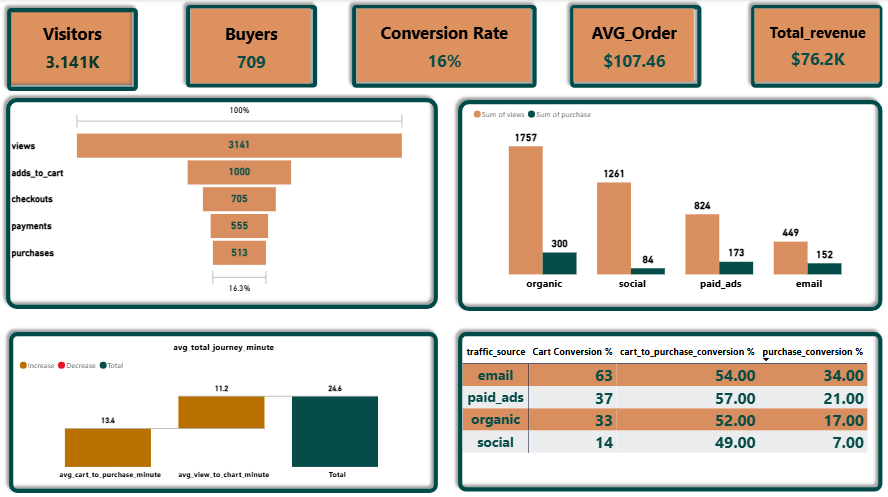

The dashboard page shown, as its layout file describes it:
{"tool":"powerbi","page":{"name":"Page 1","canvas":[1280,720],"ordinal":0},"visuals":[{"type":"funnel","fields":{"Y":["Sum(Query1.views)","Sum(Query1.cart)","Sum(Query1.checkout)","Sum(Query1.payment)","Sum(Query1.purchase)"]},"box":[11.4,147.1,577.1,282.9],"z":0},{"type":"cardVisual","title":"visitors","fields":{"Data":["Sum(Query5.total_visitors)"]},"box":[11.2,8.8,183.8,120],"z":1000},{"type":"shape","box":[0,0,206.2,136.2],"z":2000},{"type":"shape","box":[258.8,0,206.2,136.2],"z":3000},{"type":"shape","box":[498.3,0,283.3,136.7],"z":4000},{"type":"shape","box":[811.7,0,206.7,136.7],"z":5000},{"type":"shape","box":[1073.3,0,206.7,136.7],"z":6000},{"type":"cardVisual","title":"visitors","fields":{"Data":["Sum(Query5.total_buyers)"]},"box":[268.8,8.8,183.8,118.8],"z":7000},{"type":"cardVisual","title":"visitors","fields":{"Data":["Sum(Query2.overall_conversion_rate)"]},"box":[508.8,8.8,261.2,116.2],"z":8000},{"type":"cardVisual","title":"visitors","fields":{"Data":["Sum(Query5.avg_order_value)"]},"box":[821.2,8.8,183.8,116.2],"z":9000},{"type":"cardVisual","title":"visitors","fields":{"Data":["Sum(Query5.formatted_revenue)"]},"box":[1081.2,8.8,190,116.2],"z":10000},{"type":"clusteredColumnChart","fields":{"Category":["Query3.traffic_source"],"Y":["Sum(Query3.views)","Sum(Query3.purchase)"]},"box":[676.7,146.7,595,283.3],"z":11000},{"type":"pivotTable","fields":{"Rows":["Query3.traffic_source"],"Values":["Sum(Query3.cart_conversion_rate)","Sum(Query3.cart_to_purchase_conversion_rate)","Sum(Query3.purchase_conversion_rate)"]},"box":[661.4,492.9,602.9,190],"z":13000},{"type":"waterfallChart","title":" avg_total_journey_minute ","fields":{"Y":["Sum(Query4.Value)"],"Category":["Query4.Attribute"]},"box":[22.9,492.9,598.6,210],"z":13001},{"type":"shape","box":[651.4,137.1,628.6,321.4],"z":13002},{"type":"shape","box":[0,137.1,640,321.4],"z":13003},{"type":"shape","box":[651.4,471.4,628.6,247.1],"z":13004},{"type":"shape","box":[4.3,471.4,635.7,248.6],"z":13005}]}

Visuals, with their boxes in screenshot pixels (x1, y1, x2, y2), scaled from the page's 1280x720 canvas onto the 888x497 screenshot:
funnel - Sum(Query1.views) x Sum(Query1.cart): left=8, top=102, right=408, bottom=297
"visitors" cardVisual: left=8, top=6, right=135, bottom=89
shape: left=0, top=0, right=143, bottom=94
shape: left=180, top=0, right=323, bottom=94
shape: left=346, top=0, right=542, bottom=94
shape: left=563, top=0, right=707, bottom=94
shape: left=745, top=0, right=887, bottom=94
"visitors" cardVisual: left=186, top=6, right=314, bottom=88
"visitors" cardVisual: left=353, top=6, right=534, bottom=86
"visitors" cardVisual: left=570, top=6, right=697, bottom=86
"visitors" cardVisual: left=750, top=6, right=882, bottom=86
clusteredColumnChart - Query3.traffic_source x Sum(Query3.views): left=469, top=101, right=882, bottom=297
pivotTable - Query3.traffic_source x Sum(Query3.cart_conversion_rate): left=459, top=340, right=877, bottom=471
" avg_total_journey_minute " waterfallChart: left=16, top=340, right=431, bottom=485
shape: left=452, top=95, right=887, bottom=316
shape: left=0, top=95, right=444, bottom=316
shape: left=452, top=325, right=887, bottom=496
shape: left=3, top=325, right=444, bottom=496
